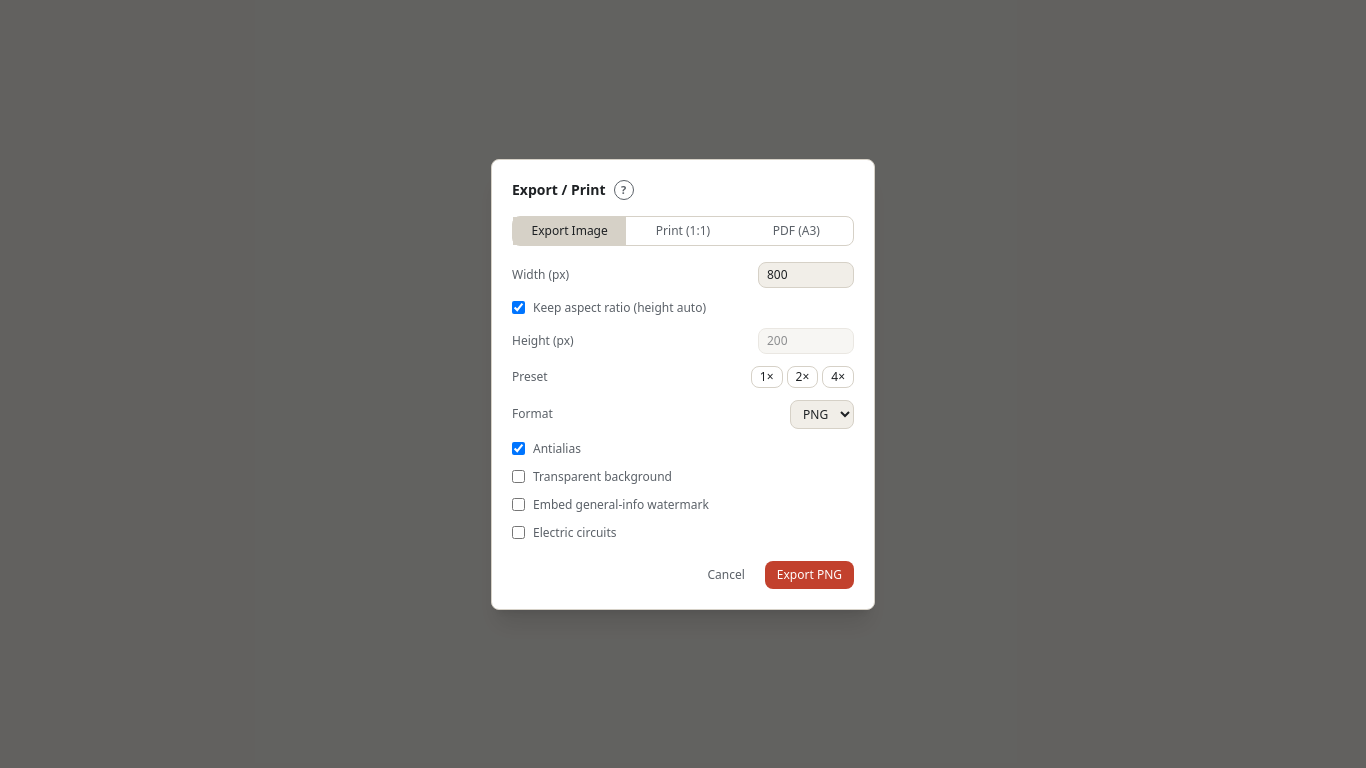
Test: ExportImageDialog › refuses a size beyond the canvas limit
Replace the text in the number field labelled "Width (px)" with "99999": (806, 274) [758,262,854,288]
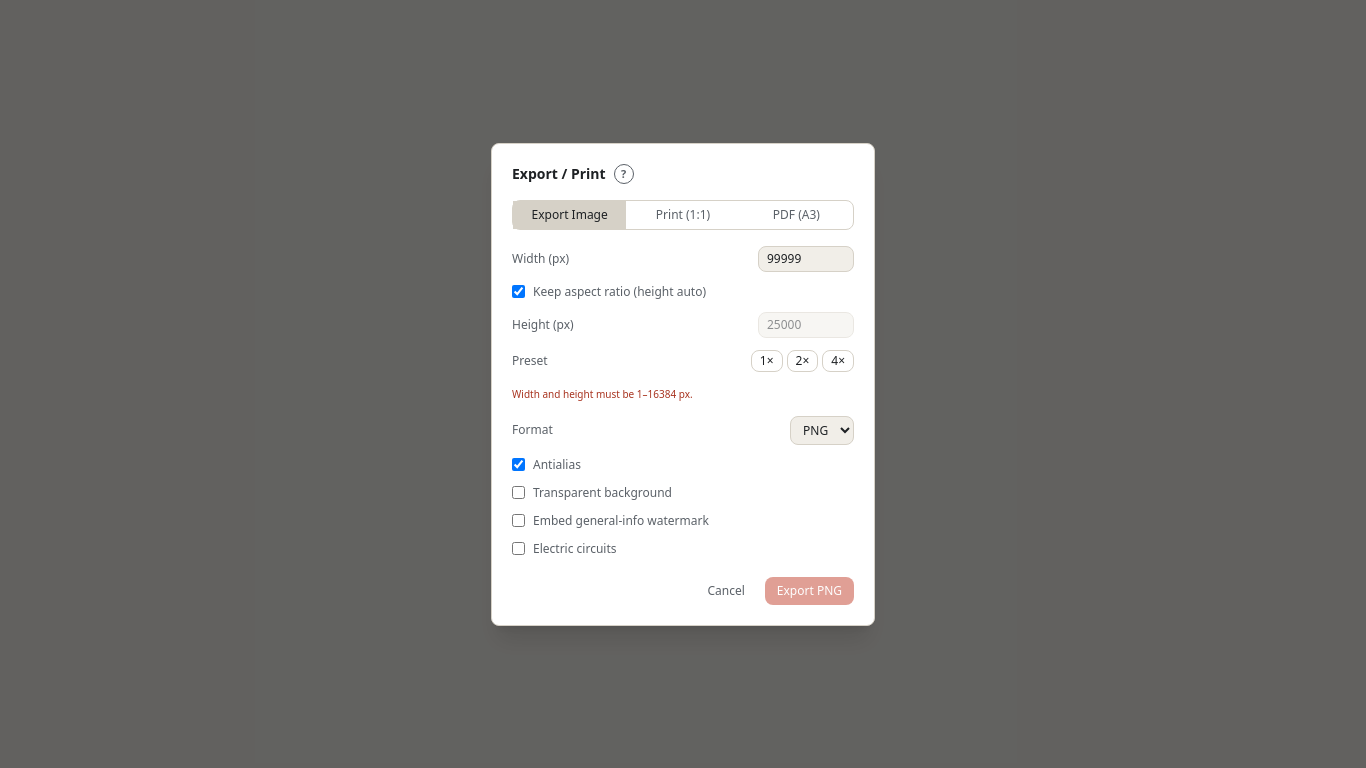
Check: the button "Export PNG" is disabled, box [765,576,854,604]
